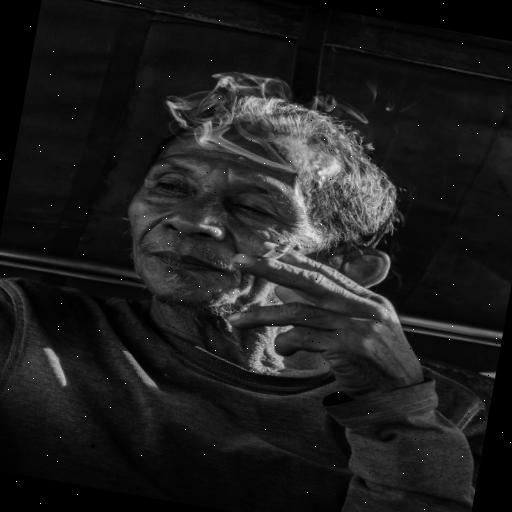pegang rokok: (201, 169, 366, 332)
